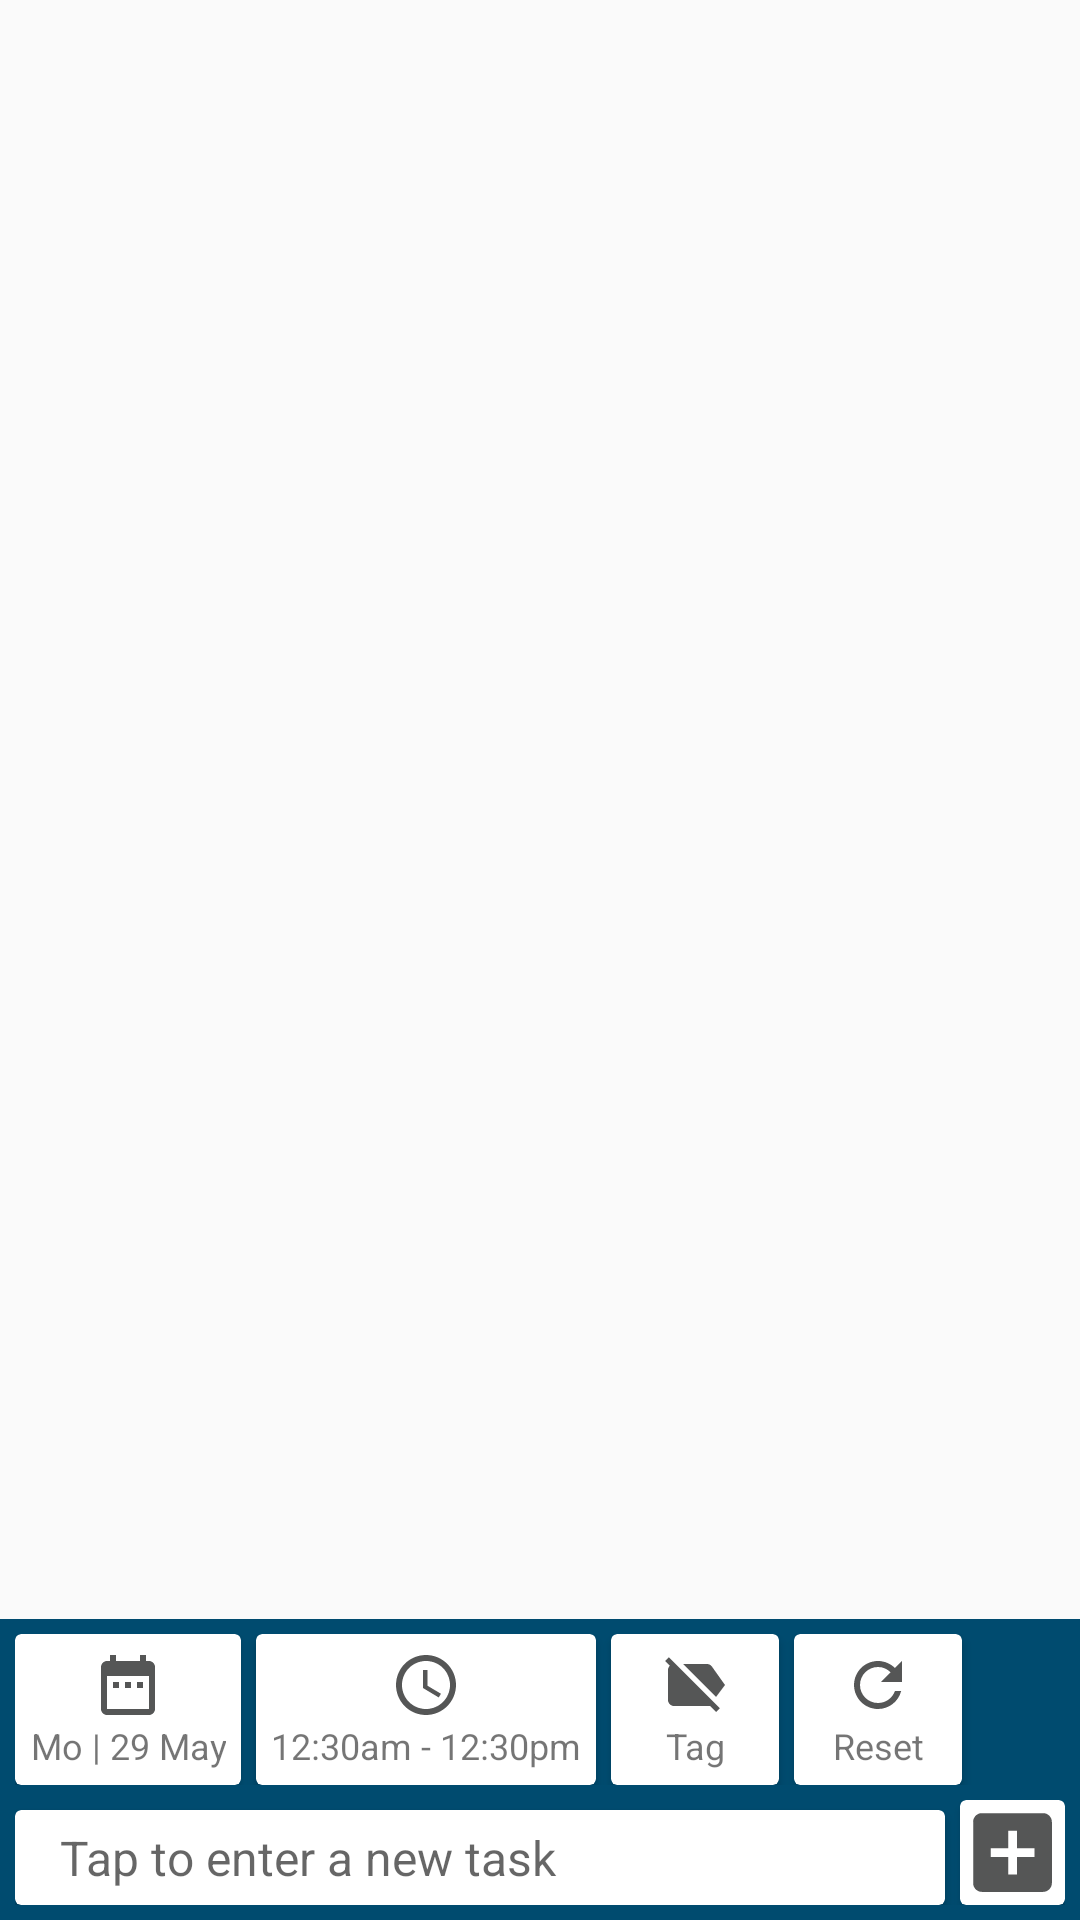

Where to tap for icons on this 1080*1920 app screen, as [x,y]:
add: [1012,1852]
